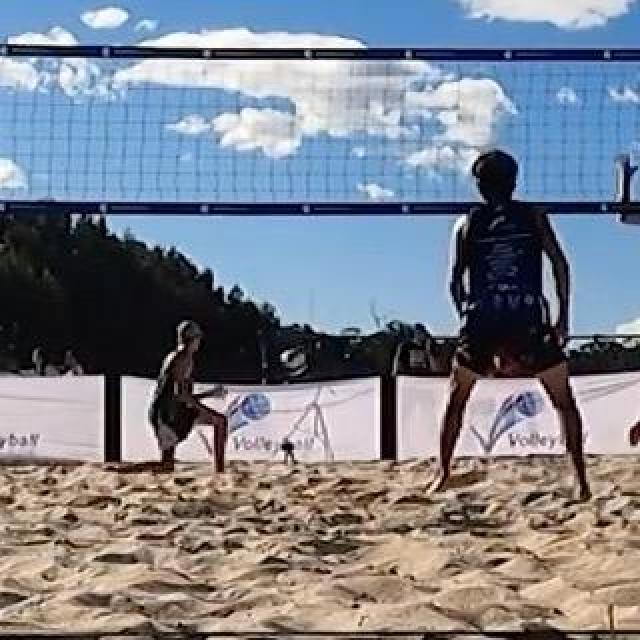volleyball: (281, 349, 307, 377)
